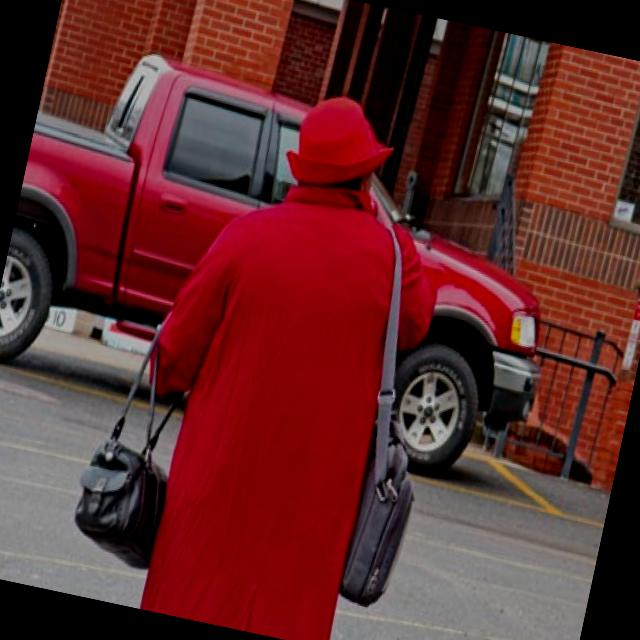Vehicle: (0, 34, 314, 407)
